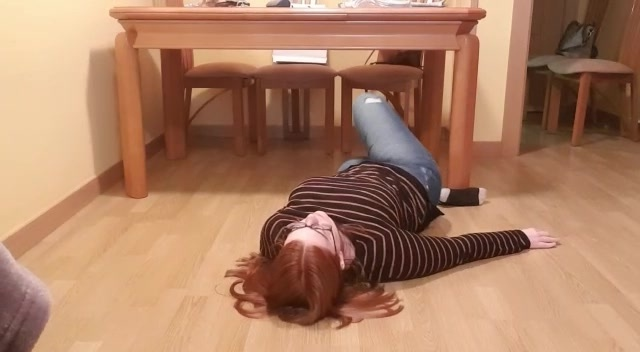fall: (205, 87, 564, 335)
